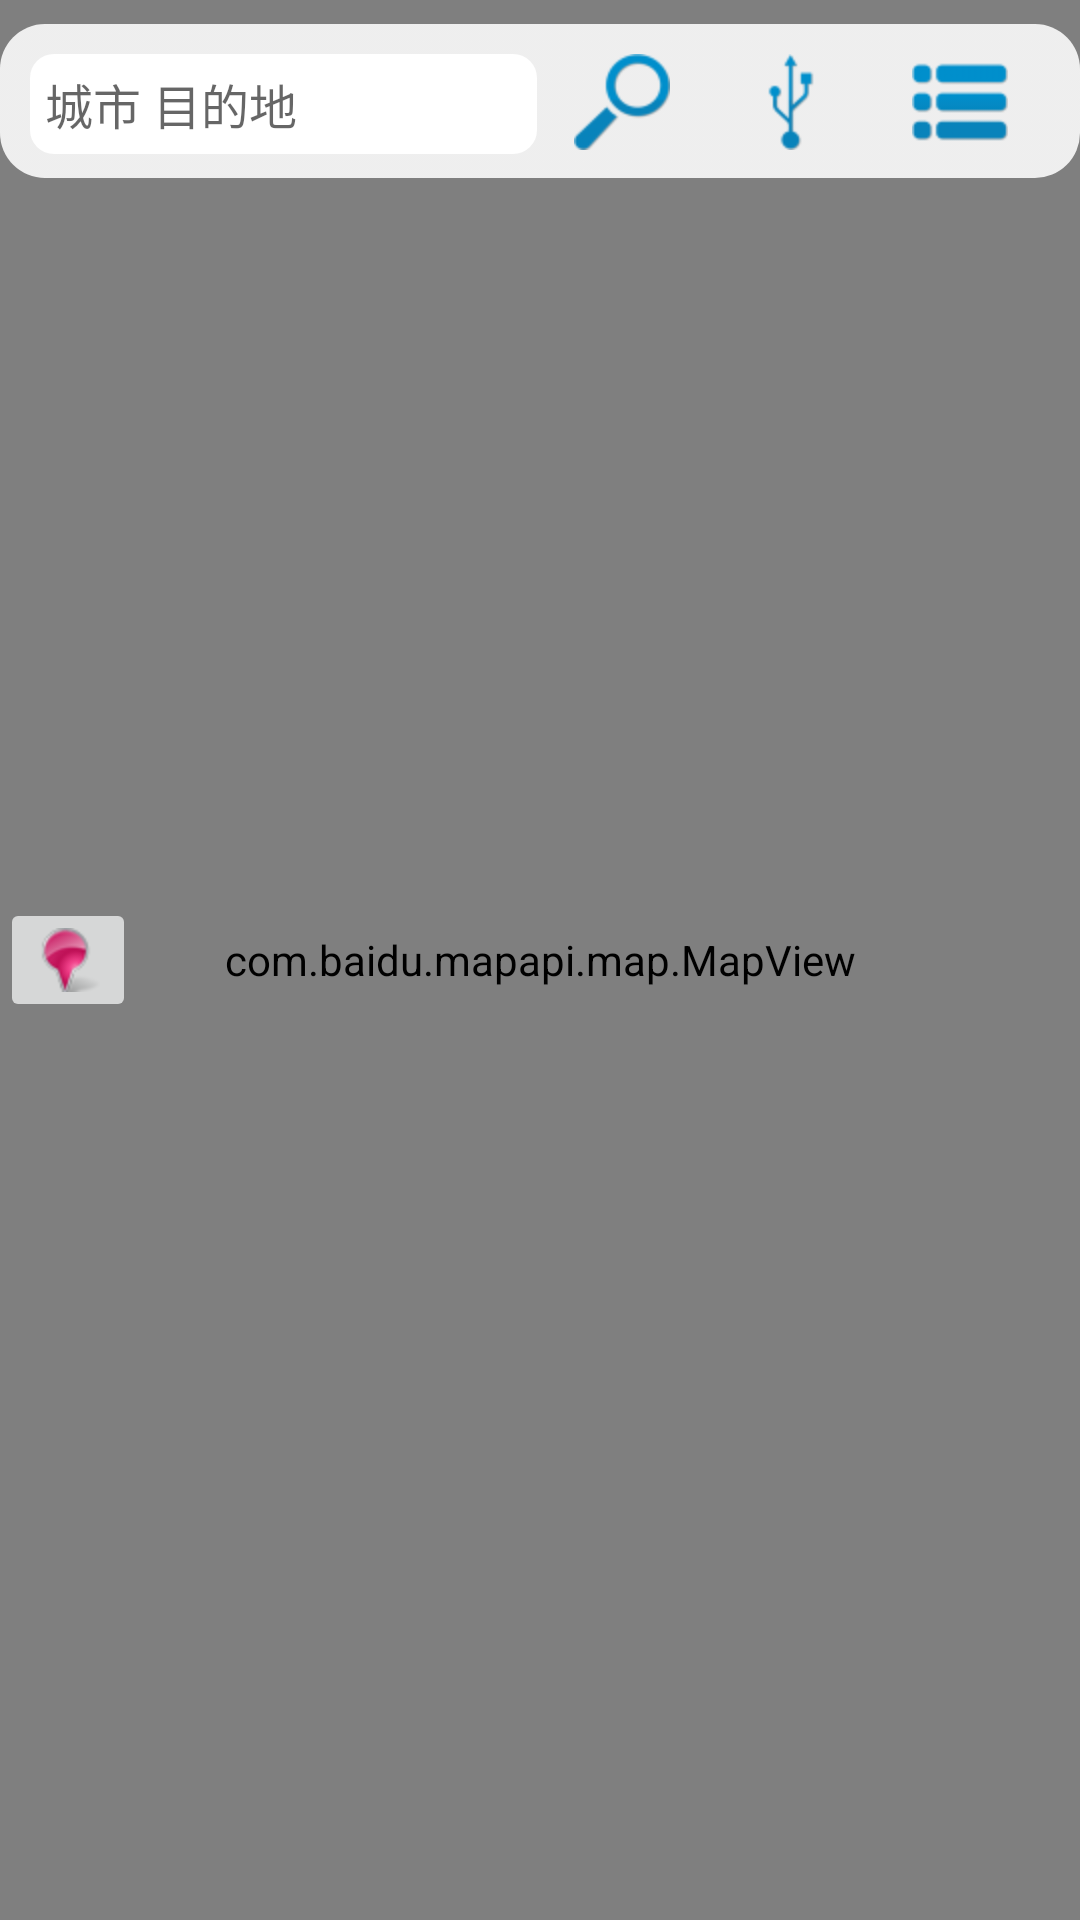

Where icons sit on this 1080 × 1920 app screen, as (x1, y1, x2, y2):
map list: (912, 63, 1008, 141)
map search: (574, 54, 670, 150)
标记地图: (12, 916, 124, 1004)
